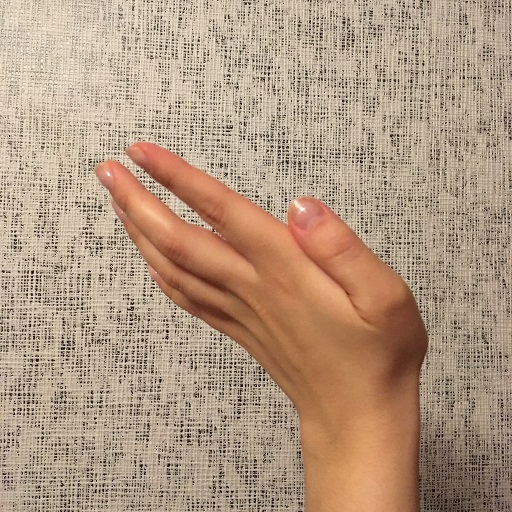hand: (108, 152, 415, 412)
